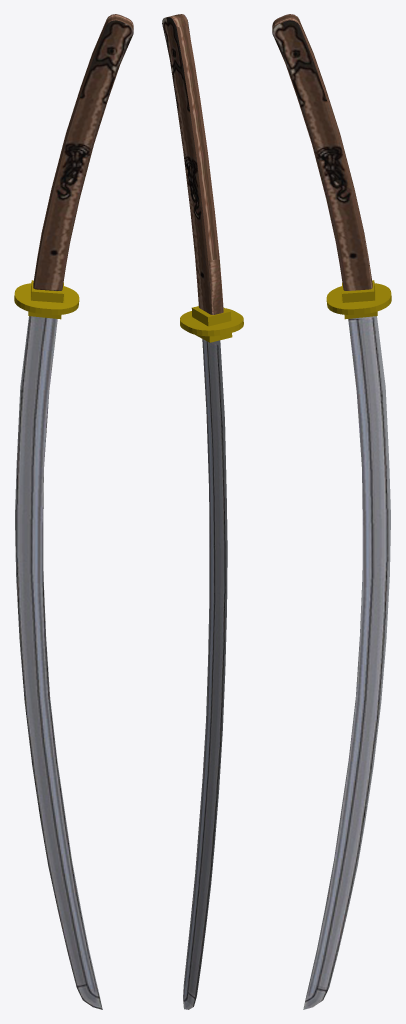
File: YCNodachi.fbx
The picture shows the model from 3 angles, left to right: view 1: azimuth 90°, elevation 25°; view 2: azimuth 210°, elevation 25°; view 3: azimuth 270°, elevation 25°; orthographic projection.
Visible parts, largest first — view 1: Cube; view 2: Cube; view 3: Cube.
Boxes of the visible parts, x1,y1,x2,y2 form: Cube: (14,14,133,1009); Cube: (162,14,243,1009); Cube: (272,14,391,1009).
Size of the model in its own units: 0.0588 by 1.08 by 0.1176.
